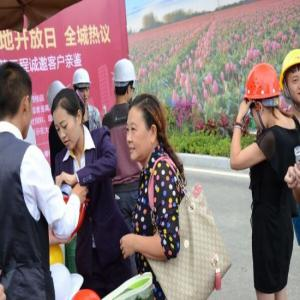none: (127, 93, 164, 166), (3, 61, 36, 141), (51, 89, 85, 151)
red: (244, 63, 281, 129)
white: (113, 58, 137, 103), (74, 68, 92, 107)
yellow: (283, 49, 300, 108)
